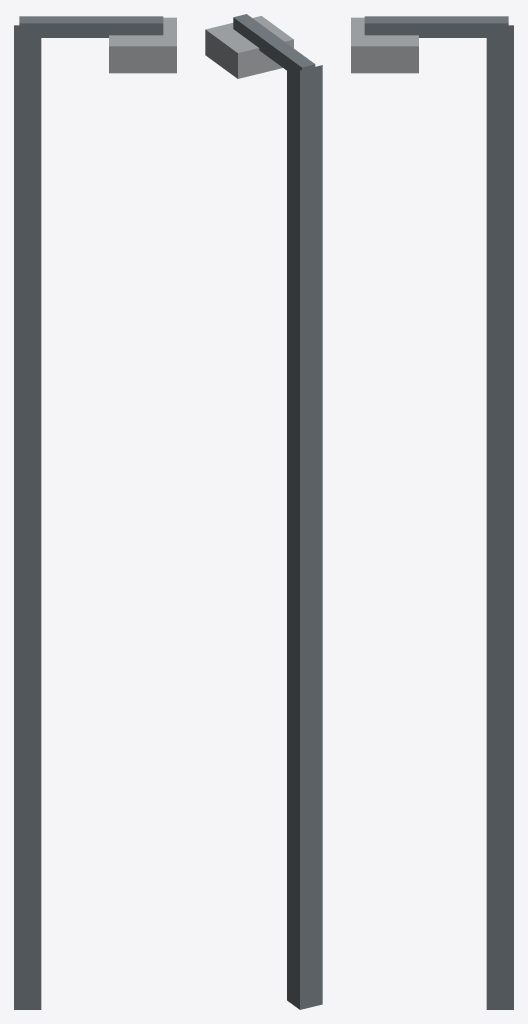
Rendered from h28_pole_light.gltf.
3 renders of one model, left to right at view 1: azimuth 90°, elevation 25°; view 2: azimuth 210°, elevation 25°; view 3: azimuth 270°, elevation 25°, orthographic. The views are drawn at different scales.
Visible parts, largest first — view 1: h28_pole_light; view 2: h28_pole_light; view 3: h28_pole_light.
Boxes of the visible parts, x1,y1,x2,y2 form: h28_pole_light: [14, 16, 176, 1009]; h28_pole_light: [205, 14, 322, 1009]; h28_pole_light: [351, 16, 513, 1009].
Bounding box in the file's own units: 0.5 × 8 × 1.2.
